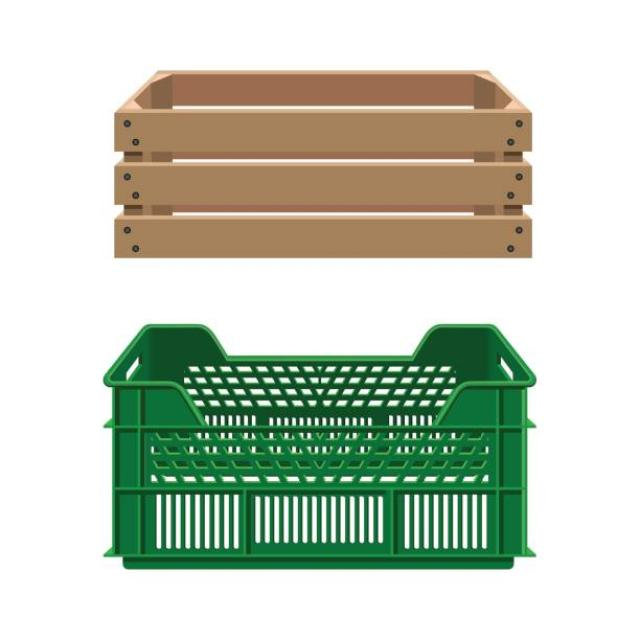basket: (108, 326, 534, 569), (114, 70, 533, 259)
